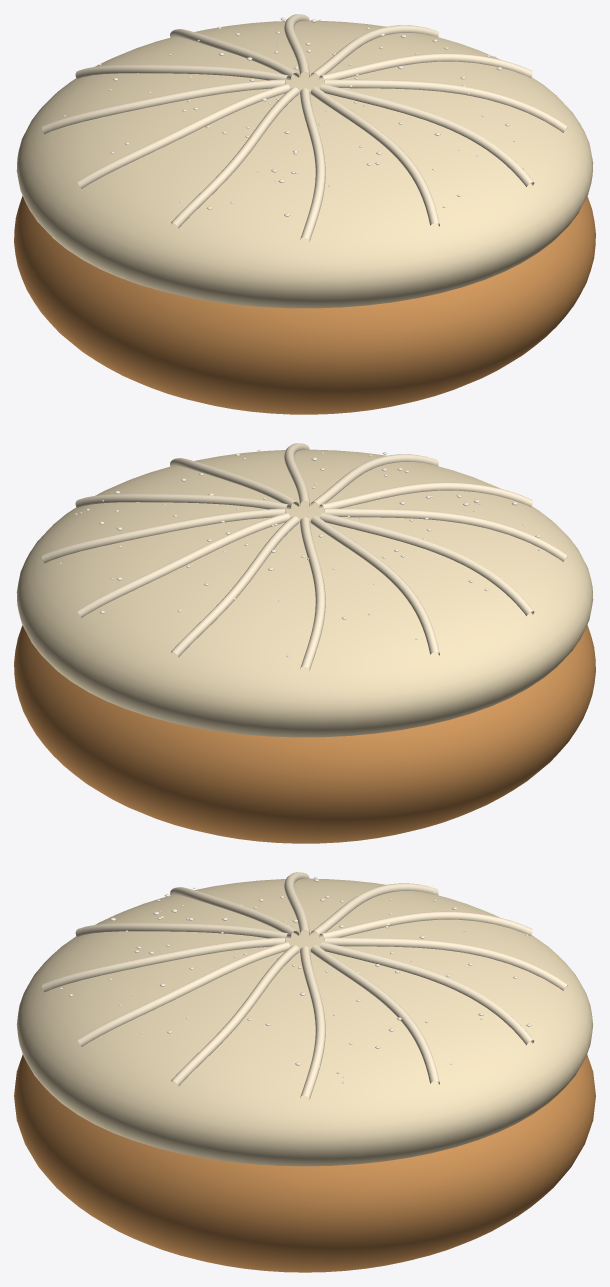
The model's file is ConchaVainilla.glb.
3 renders of one model, top to bottom at view 1: azimuth 30°, elevation 25°; view 2: azimuth 150°, elevation 25°; view 3: azimuth 270°, elevation 25°, orthographic.
Parts seen in each view (by area): view 1: Cubierta_Dulce_Vainilla, Masa_Concha, Dibujo_Cubierta_Concha.005, Dibujo_Cubierta_Concha.011, Dibujo_Cubierta_Concha.010, Dibujo_Cubierta_Concha.006, Dibujo_Cubierta_Concha.004, Dibujo_Cubierta_Concha.009, Dibujo_Cubierta_Concha.007, Dibujo_Cubierta_Concha, Dibujo_Cubierta_Concha.008, Dibujo_Cubierta_Concha.001 (+2 smaller); view 2: Cubierta_Dulce_Vainilla, Masa_Concha, Dibujo_Cubierta_Concha.001, Dibujo_Cubierta_Concha.007, Dibujo_Cubierta_Concha.006, Dibujo_Cubierta_Concha.002, Dibujo_Cubierta_Concha.005, Dibujo_Cubierta_Concha, Dibujo_Cubierta_Concha.008, Dibujo_Cubierta_Concha.003, Dibujo_Cubierta_Concha.004, Dibujo_Cubierta_Concha.009 (+2 smaller); view 3: Cubierta_Dulce_Vainilla, Masa_Concha, Dibujo_Cubierta_Concha.003, Dibujo_Cubierta_Concha.009, Dibujo_Cubierta_Concha.002, Dibujo_Cubierta_Concha.010, Dibujo_Cubierta_Concha.001, Dibujo_Cubierta_Concha.004, Dibujo_Cubierta_Concha.008, Dibujo_Cubierta_Concha.011, Dibujo_Cubierta_Concha, Dibujo_Cubierta_Concha.005 (+2 smaller).
Boxes of the visible parts, x1=… form: Cubierta_Dulce_Vainilla: x1=16, y1=20, x2=593, y2=308; Masa_Concha: x1=14, y1=196, x2=595, y2=414; Dibujo_Cubierta_Concha.005: x1=42, y1=79, x2=285, y2=134; Dibujo_Cubierta_Concha.011: x1=324, y1=79, x2=567, y2=132; Dibujo_Cubierta_Concha.010: x1=320, y1=84, x2=534, y2=186; Dibujo_Cubierta_Concha.006: x1=77, y1=84, x2=290, y2=188; Dibujo_Cubierta_Concha.004: x1=75, y1=65, x2=290, y2=83; Dibujo_Cubierta_Concha.009: x1=310, y1=87, x2=439, y2=226; Dibujo_Cubierta_Concha.007: x1=171, y1=87, x2=299, y2=228; Dibujo_Cubierta_Concha: x1=319, y1=53, x2=532, y2=79; Dibujo_Cubierta_Concha.008: x1=300, y1=88, x2=325, y2=241; Dibujo_Cubierta_Concha.001: x1=310, y1=25, x2=438, y2=77; Cubierta_Dulce_Vainilla: x1=16, y1=449, x2=593, y2=737; Masa_Concha: x1=14, y1=625, x2=595, y2=843; Dibujo_Cubierta_Concha.001: x1=42, y1=508, x2=285, y2=563; Dibujo_Cubierta_Concha.007: x1=324, y1=508, x2=567, y2=561; Dibujo_Cubierta_Concha.006: x1=320, y1=513, x2=534, y2=615; Dibujo_Cubierta_Concha.002: x1=77, y1=513, x2=290, y2=617; Dibujo_Cubierta_Concha.005: x1=310, y1=516, x2=439, y2=655; Dibujo_Cubierta_Concha: x1=75, y1=494, x2=290, y2=512; Dibujo_Cubierta_Concha.008: x1=319, y1=482, x2=532, y2=508; Dibujo_Cubierta_Concha.003: x1=171, y1=516, x2=299, y2=657; Dibujo_Cubierta_Concha.004: x1=300, y1=517, x2=325, y2=670; Dibujo_Cubierta_Concha.009: x1=310, y1=454, x2=438, y2=506; Cubierta_Dulce_Vainilla: x1=17, y1=878, x2=592, y2=1166; Masa_Concha: x1=14, y1=1054, x2=595, y2=1272; Dibujo_Cubierta_Concha.003: x1=324, y1=937, x2=567, y2=990; Dibujo_Cubierta_Concha.009: x1=42, y1=937, x2=285, y2=992; Dibujo_Cubierta_Concha.002: x1=320, y1=942, x2=534, y2=1045; Dibujo_Cubierta_Concha.010: x1=77, y1=942, x2=290, y2=1046; Dibujo_Cubierta_Concha.001: x1=310, y1=945, x2=439, y2=1084; Dibujo_Cubierta_Concha.004: x1=319, y1=911, x2=532, y2=938; Dibujo_Cubierta_Concha.008: x1=75, y1=923, x2=290, y2=941; Dibujo_Cubierta_Concha.011: x1=171, y1=945, x2=299, y2=1086; Dibujo_Cubierta_Concha: x1=300, y1=946, x2=325, y2=1099; Dibujo_Cubierta_Concha.005: x1=310, y1=883, x2=438, y2=937.
Bounding box in the file's own units: 1.04 × 0.5612 × 1.04.
